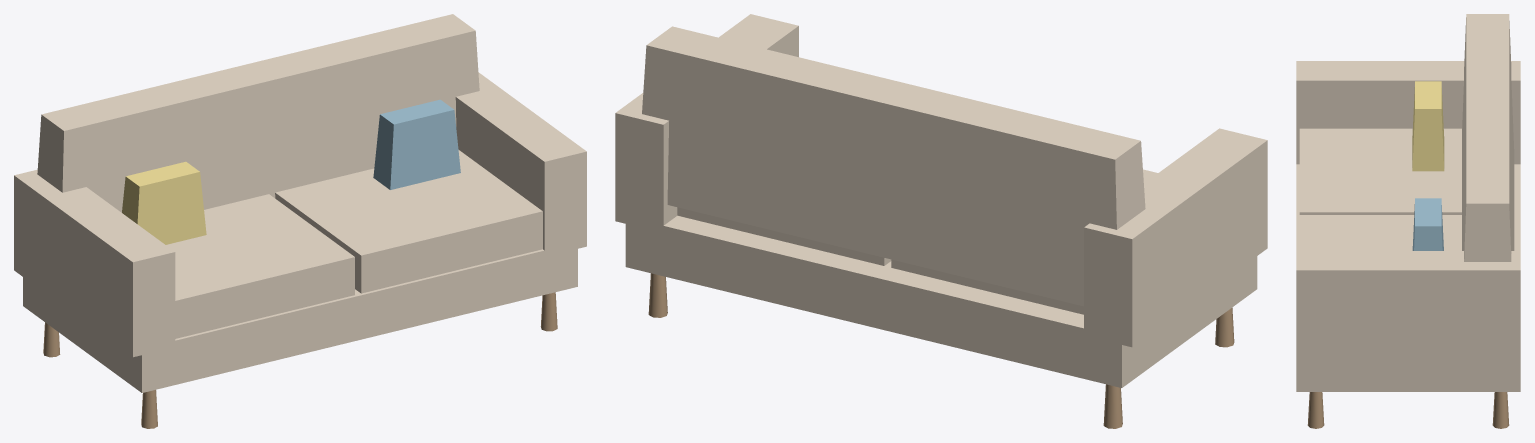
The model's file is furniture_sofa_basic.glb.
3 views of the same model, side by side, from view 1: azimuth 30°, elevation 25°; view 2: azimuth 150°, elevation 25°; view 3: azimuth 270°, elevation 25° (orthographic). The views are drawn at different scales.
Visible parts, largest first — view 1: SofaBasic; view 2: SofaBasic; view 3: SofaBasic.
Part boxes in pixels (x1=…): SofaBasic: x1=14, y1=14, x2=586, y2=428; SofaBasic: x1=615, y1=14, x2=1267, y2=428; SofaBasic: x1=1296, y1=14, x2=1520, y2=428.
Bounding box in the file's own units: 1.5 × 0.75 × 0.68.
